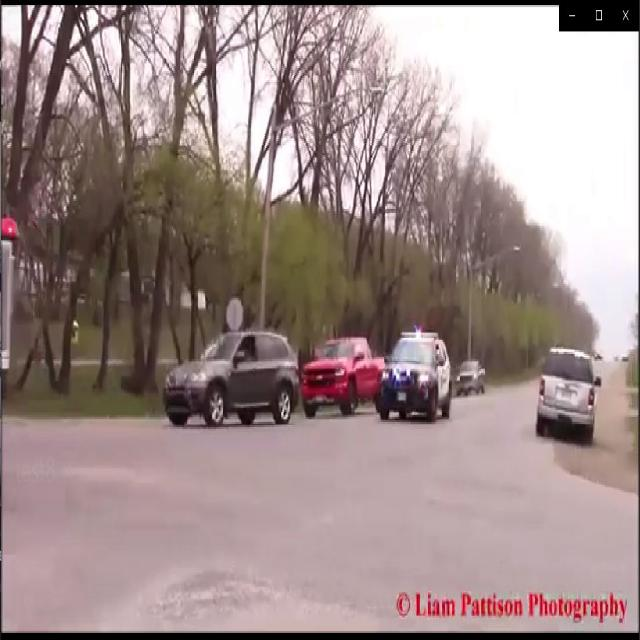emergency: (375, 327, 453, 428), (0, 209, 22, 442)
